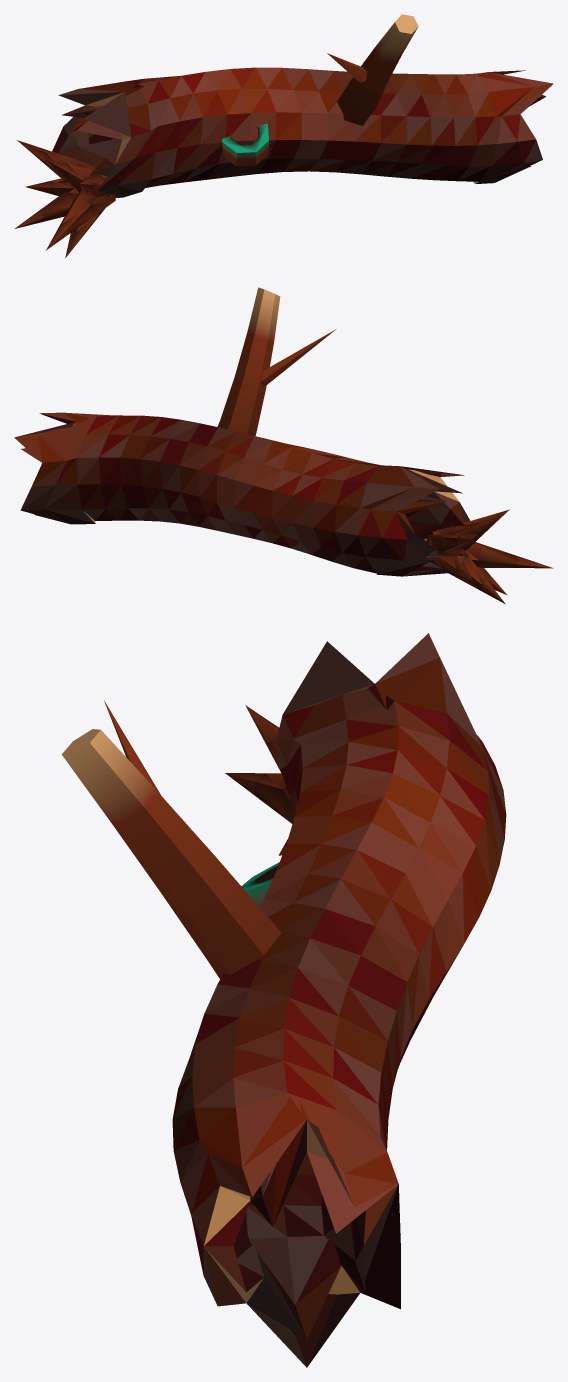
The model's file is pohon_tumbang_uprooted_redwood_488829.glb.
The picture shows the model from 3 angles, top to bottom: view 1: azimuth 30°, elevation 25°; view 2: azimuth 150°, elevation 25°; view 3: azimuth 270°, elevation 25°; orthographic projection. The views are drawn at different scales.
Visible parts, largest first — view 1: Tunggul_Akar_Tumbang; view 2: Tunggul_Akar_Tumbang; view 3: Tunggul_Akar_Tumbang.
Part boxes in pixels (<box>): Tunggul_Akar_Tumbang: <box>14,14,553,257</box>; Tunggul_Akar_Tumbang: <box>14,287,553,603</box>; Tunggul_Akar_Tumbang: <box>62,633,506,1367</box>.
Bounding box in the file's own units: 5.07 × 2.21 × 1.92.
